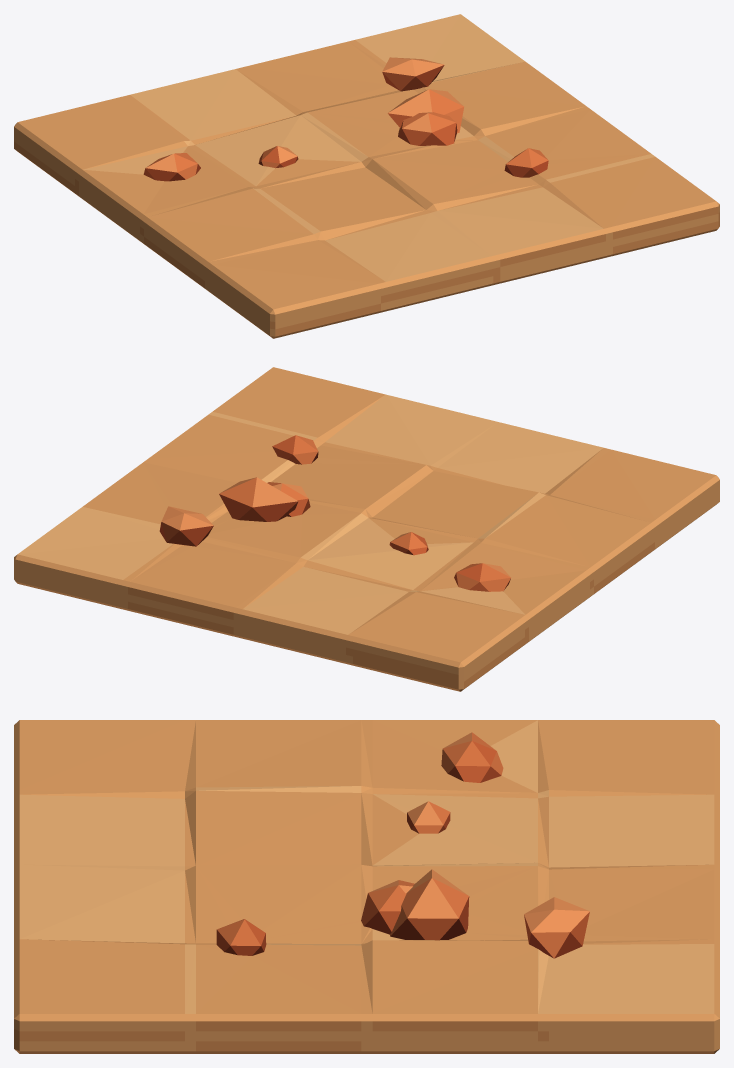
File: SM_GROUND_ROCKY_01.fbx
3 renders of one model, top to bottom at view 1: azimuth 30°, elevation 25°; view 2: azimuth 150°, elevation 25°; view 3: azimuth 270°, elevation 25°, orthographic. The views are drawn at different scales.
Parts seen in each view (by area): view 1: GROUND_ROCKY_01; view 2: GROUND_ROCKY_01; view 3: GROUND_ROCKY_01.
Boxes of the visible parts, x1,y1,x2,y2 form: GROUND_ROCKY_01: (14,14,719,338); GROUND_ROCKY_01: (14,367,719,691); GROUND_ROCKY_01: (14,720,719,1053).
Bounding box in the file's own units: 4 × 4 × 0.5391.
